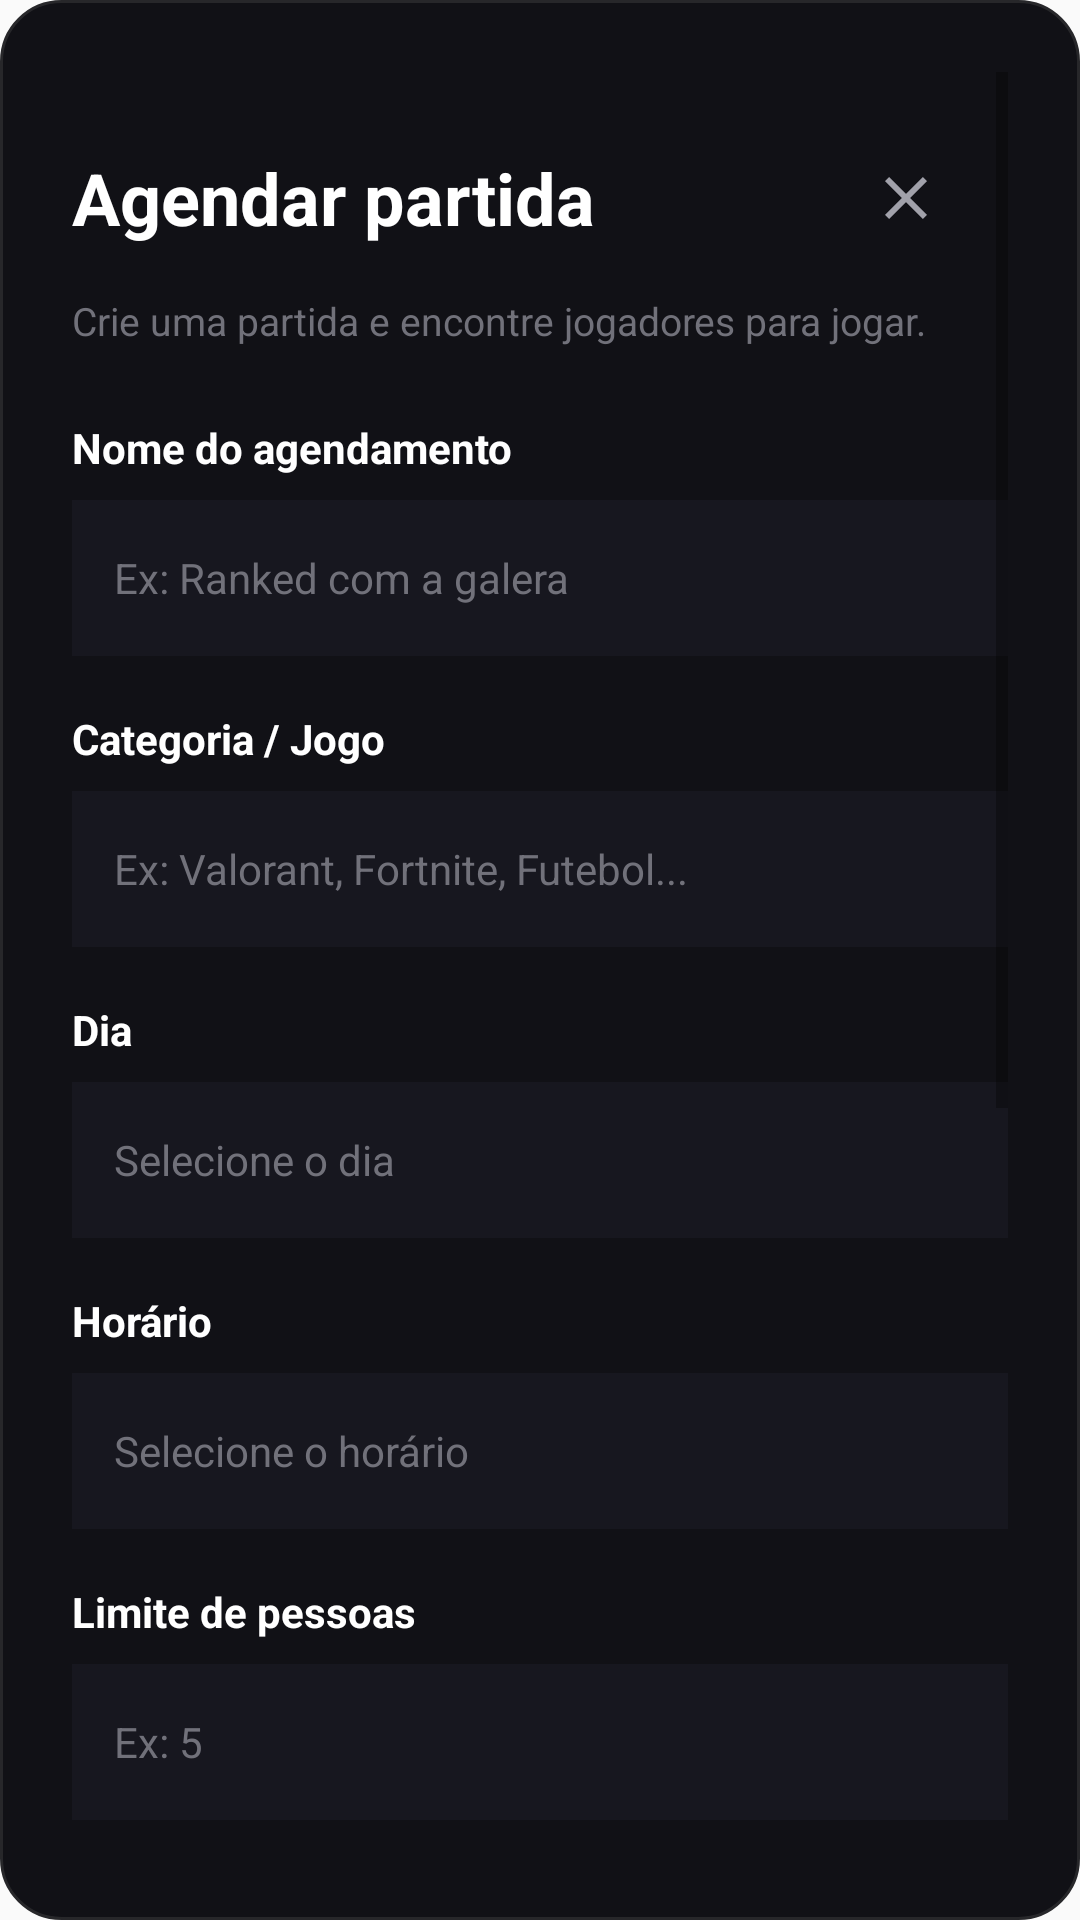

Screen size 1080 × 1920. Icon name, then its box in pixels as (x1, y1, x2, y2):
Fechar: (885, 177, 927, 219)
